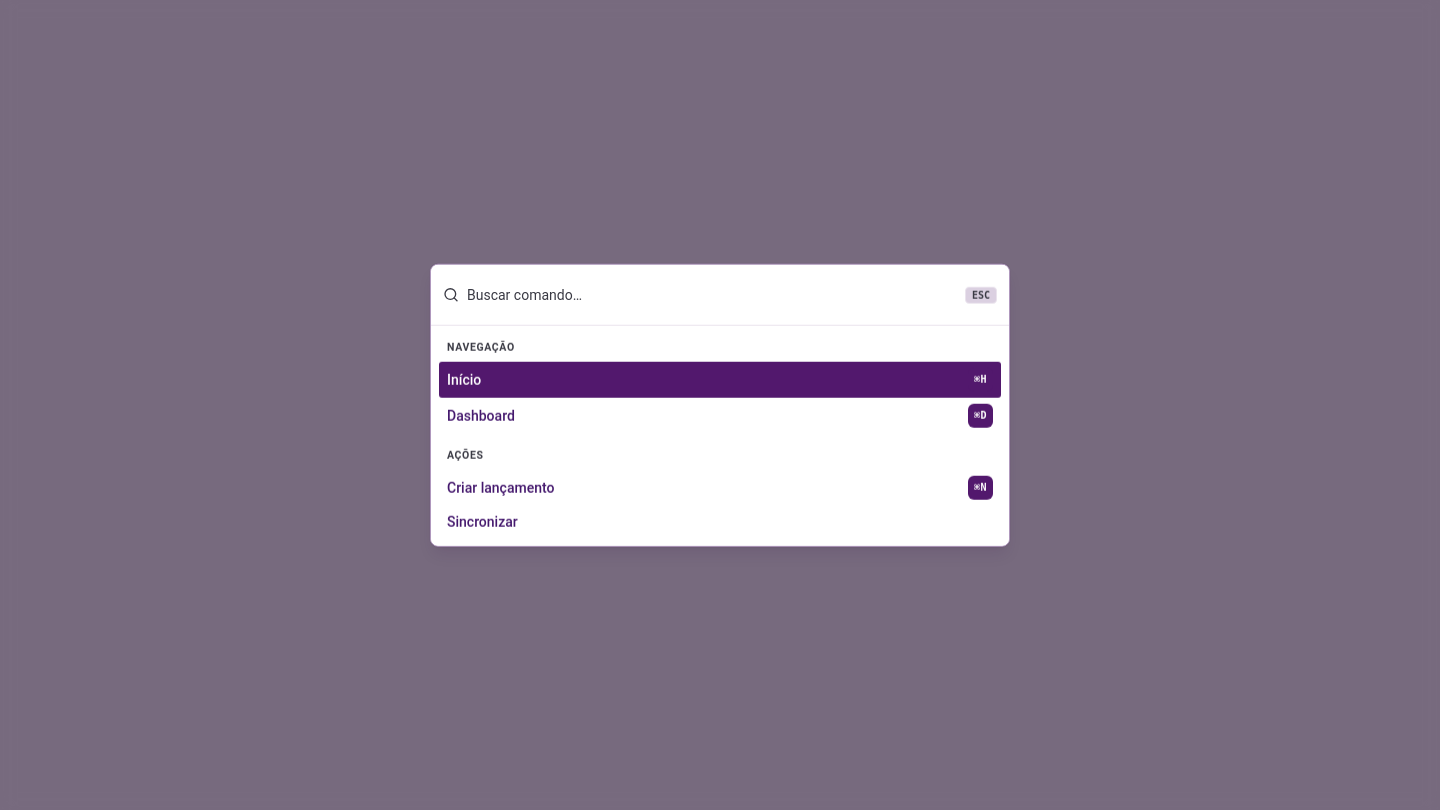
Test: CommandPalette — interaction and selection › AC-8: shows the empty text when no entries match the filter
Type "xyznotfound" into the dropdown with placeholder "Buscar comando…" at (712, 295), box [467, 277, 957, 313]
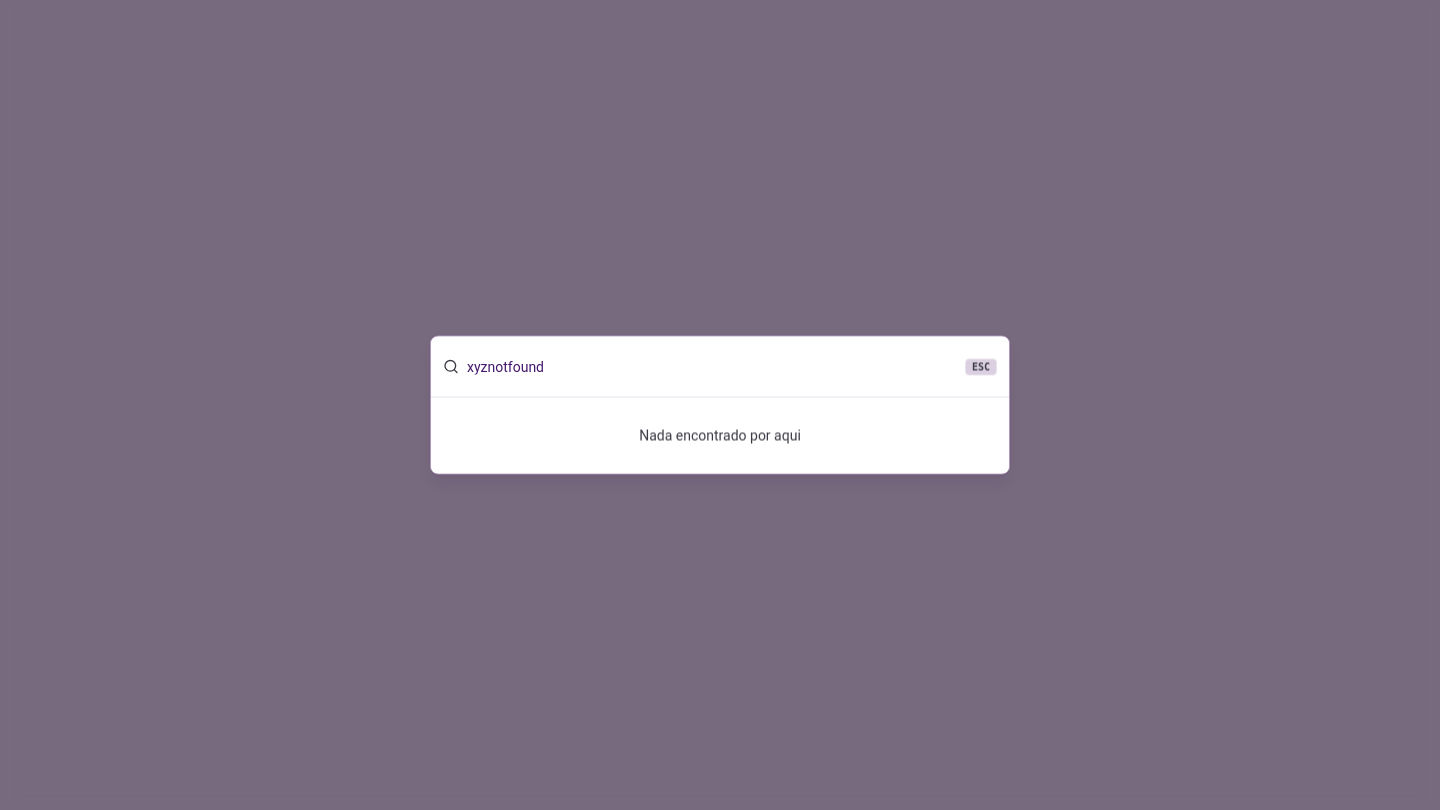
Now the text "Nada encontrado por aqui" is shown, box [639, 428, 801, 444]
